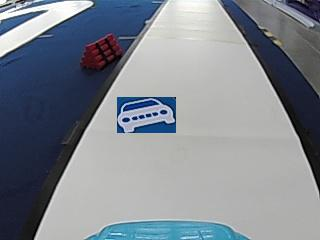bomb: (81, 31, 120, 69)
